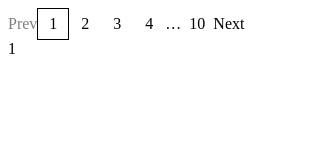
Scenario: Pagination › jumps to a page when its button is clicked
What coordinates should you click on to do the following:
click the button with class "sve-pagination__page" showing "3"
I would click on:
 (117, 24)
Its box is x1=101 y1=8 x2=133 y2=40.
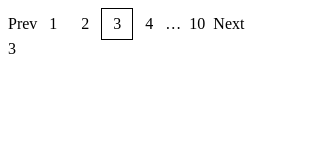
expect the text with test id "page" reads "3": met, box x1=8 y1=40 x2=16 y2=57
